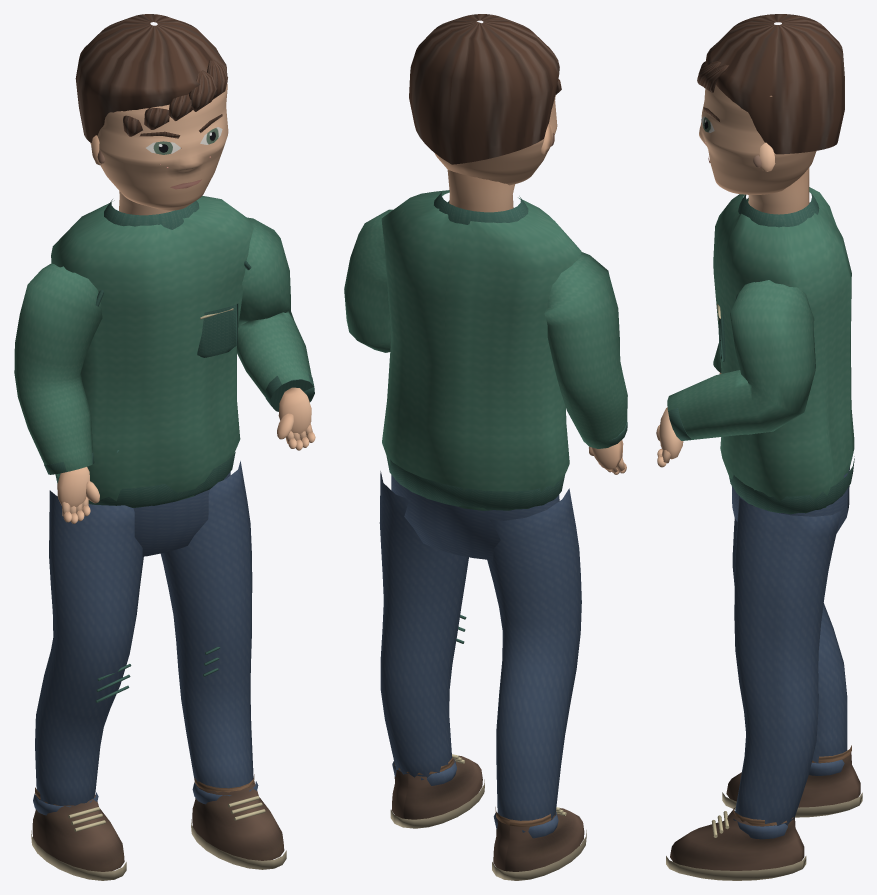
File: HERO-05_vovik-standing.glb
The picture shows the model from 3 angles, left to right: view 1: azimuth 30°, elevation 25°; view 2: azimuth 150°, elevation 25°; view 3: azimuth 270°, elevation 25°; orthographic projection.
Visible parts, largest first — view 1: vovik · soles; view 2: vovik · soles; view 3: vovik · soles.
Boxes of the visible parts, x1,y1,x2,y2 form: vovik · soles: [14, 14, 315, 880]; vovik · soles: [344, 14, 627, 880]; vovik · soles: [656, 14, 862, 880].
Size of the model in its own units: 0.4636 by 1.36 by 0.3126.
2 materials, 2 textured.
